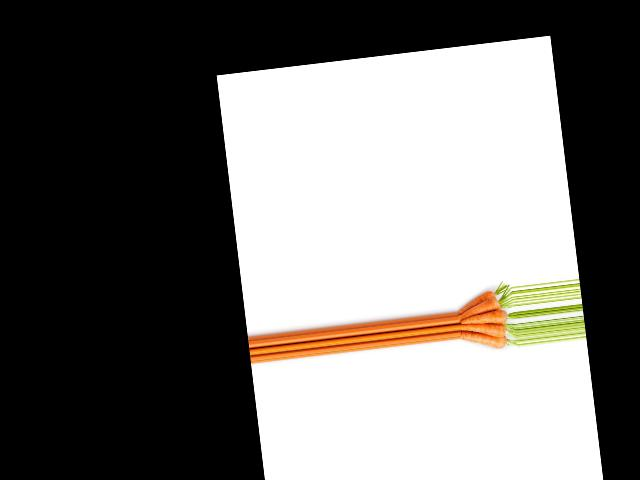carrot: (455, 285, 497, 315)
